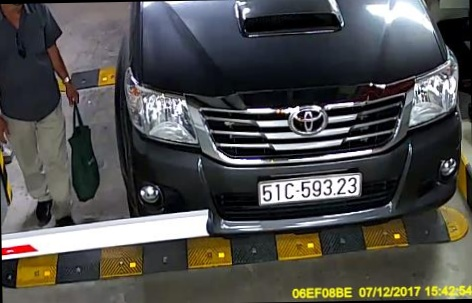plate: (248, 163, 363, 206)
